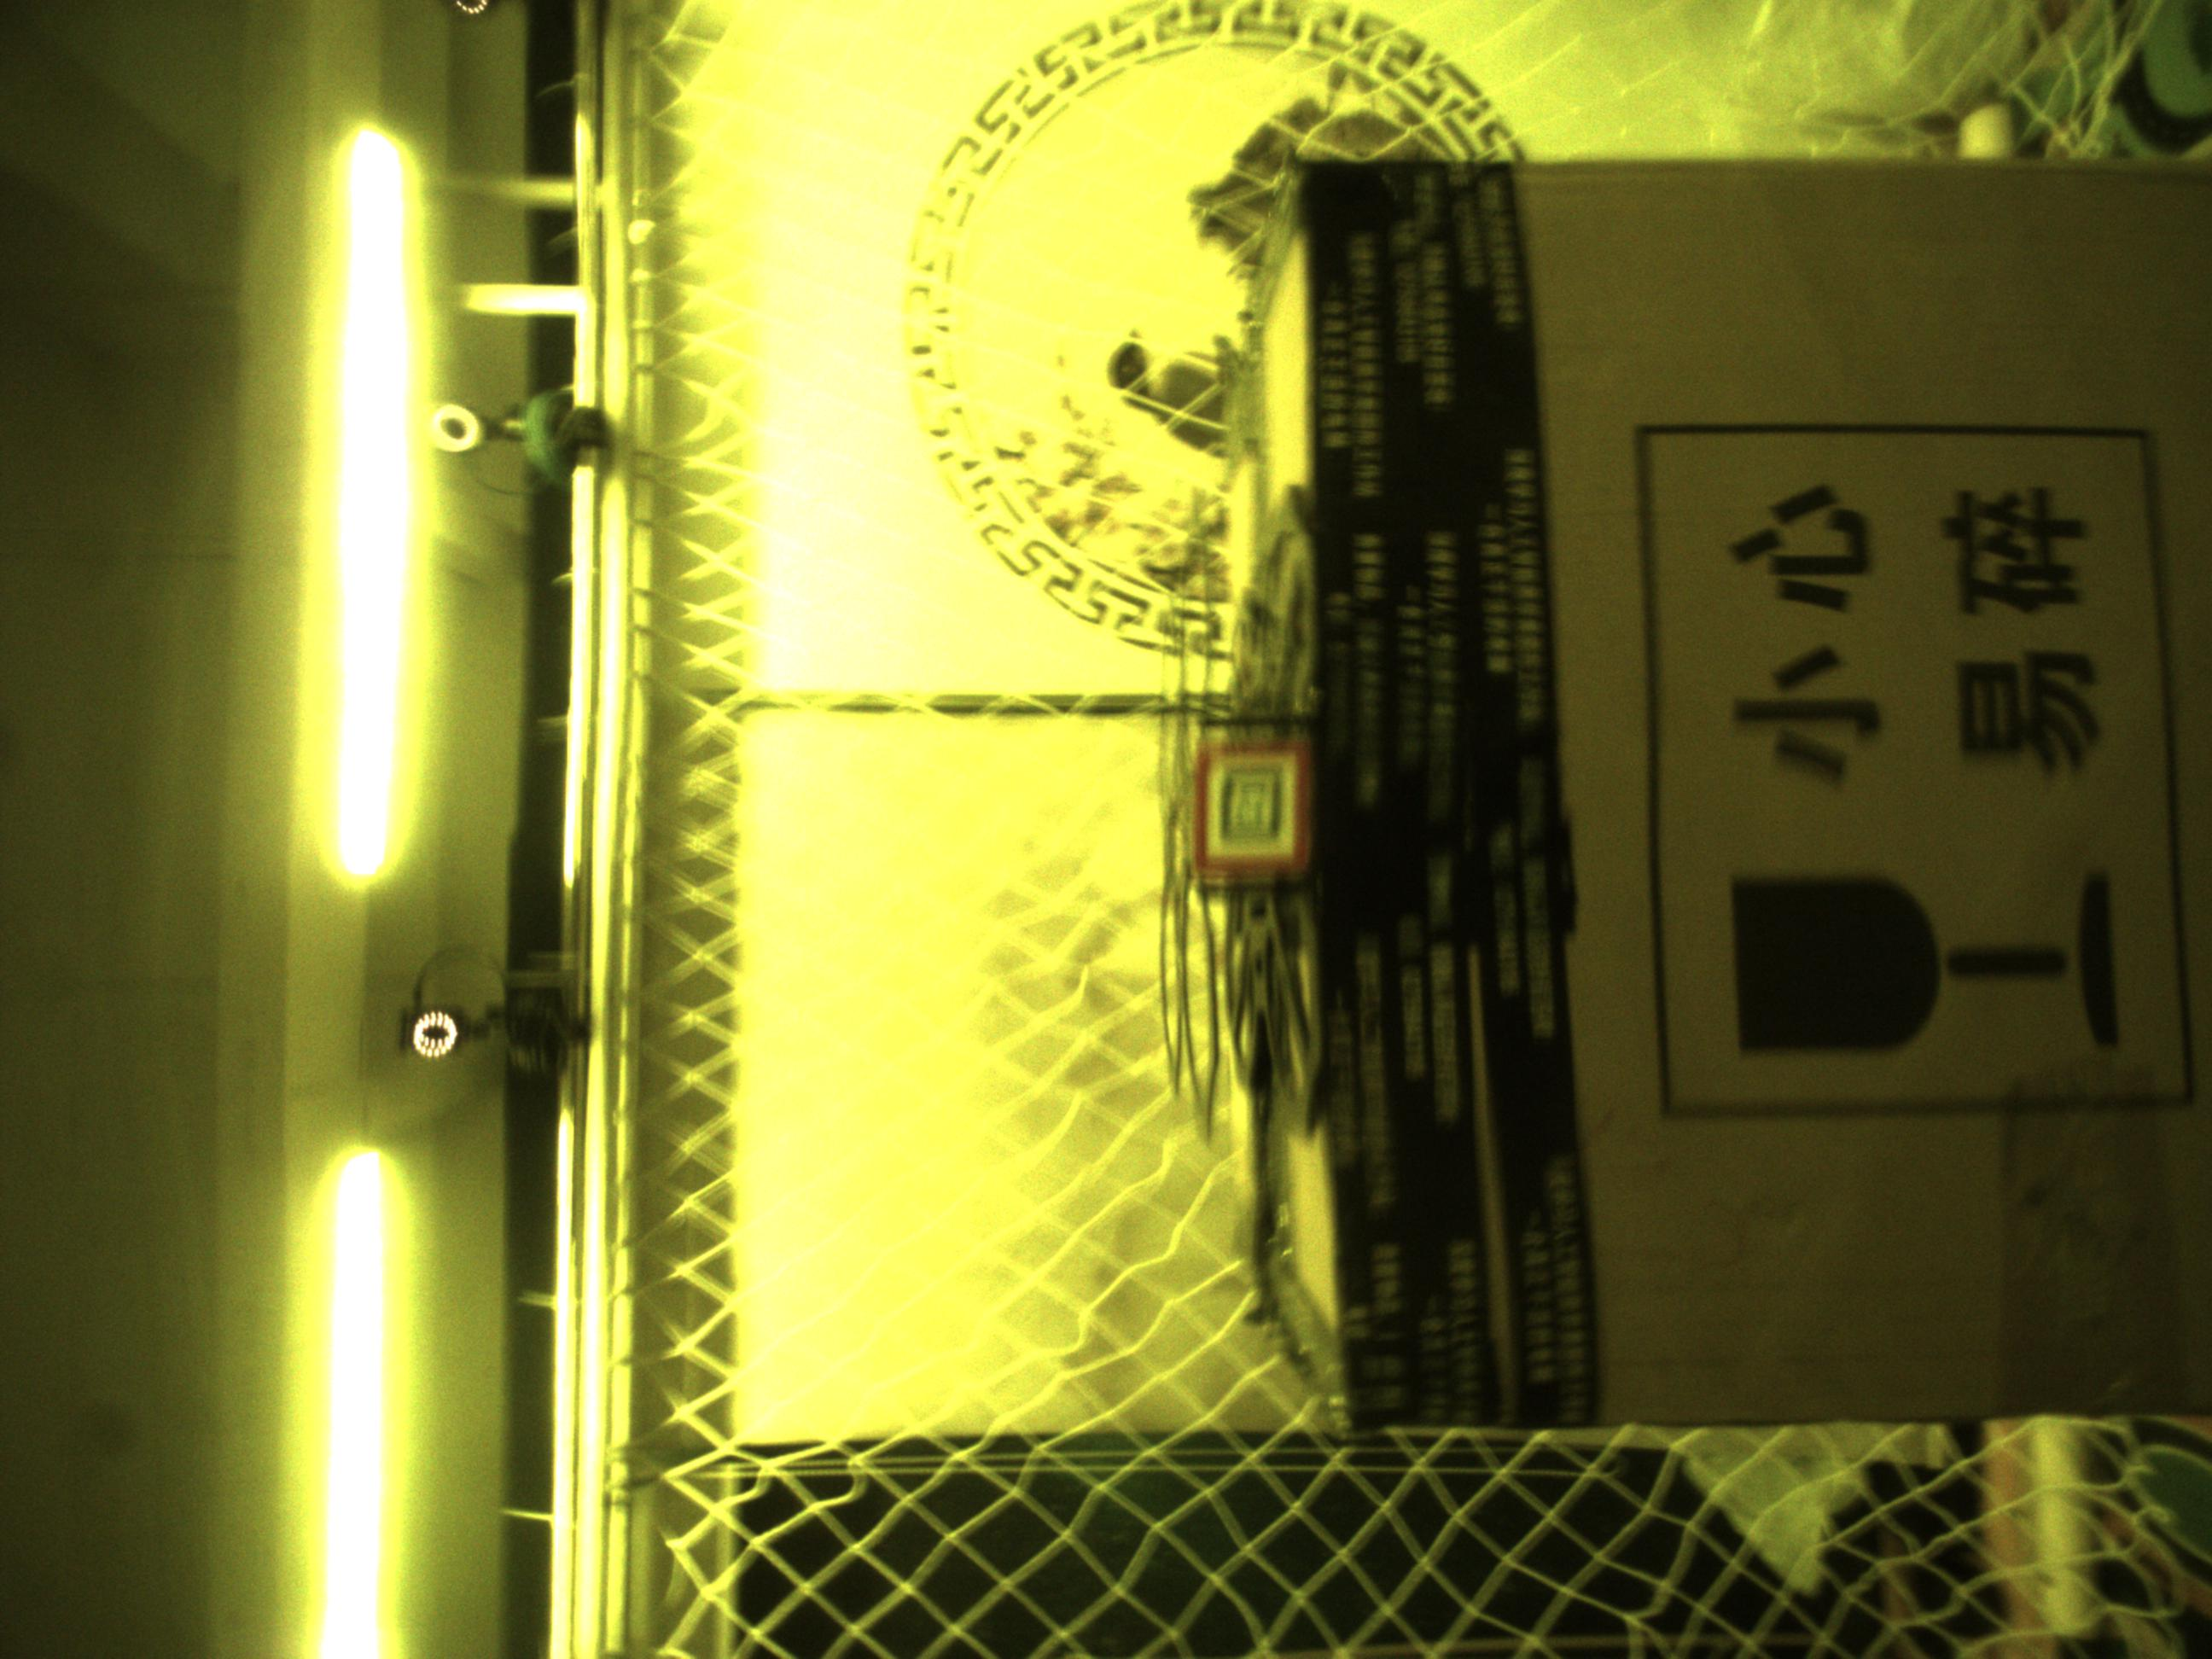outline: (1195, 742, 1308, 873)
